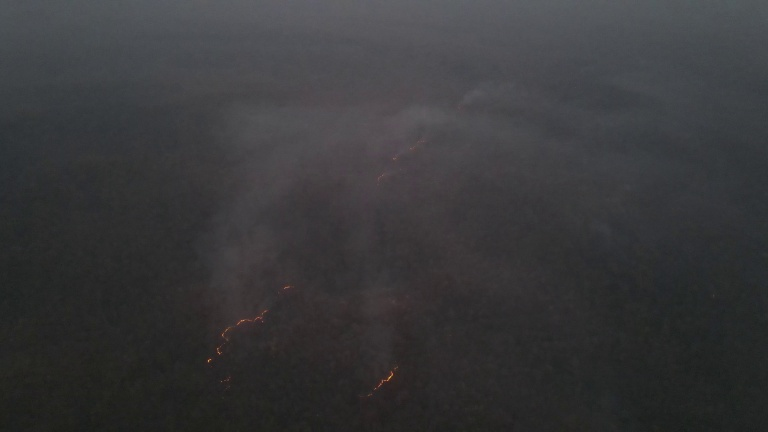fire: (203, 309, 274, 380), (364, 362, 406, 398), (271, 285, 291, 294), (390, 152, 405, 159), (376, 171, 386, 180), (410, 140, 420, 147)
smoke: (188, 79, 368, 311)
